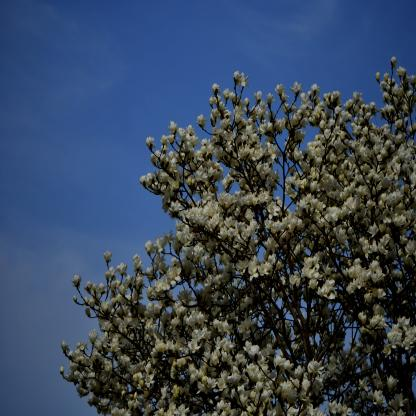Mokuren: (60, 54, 416, 416)
